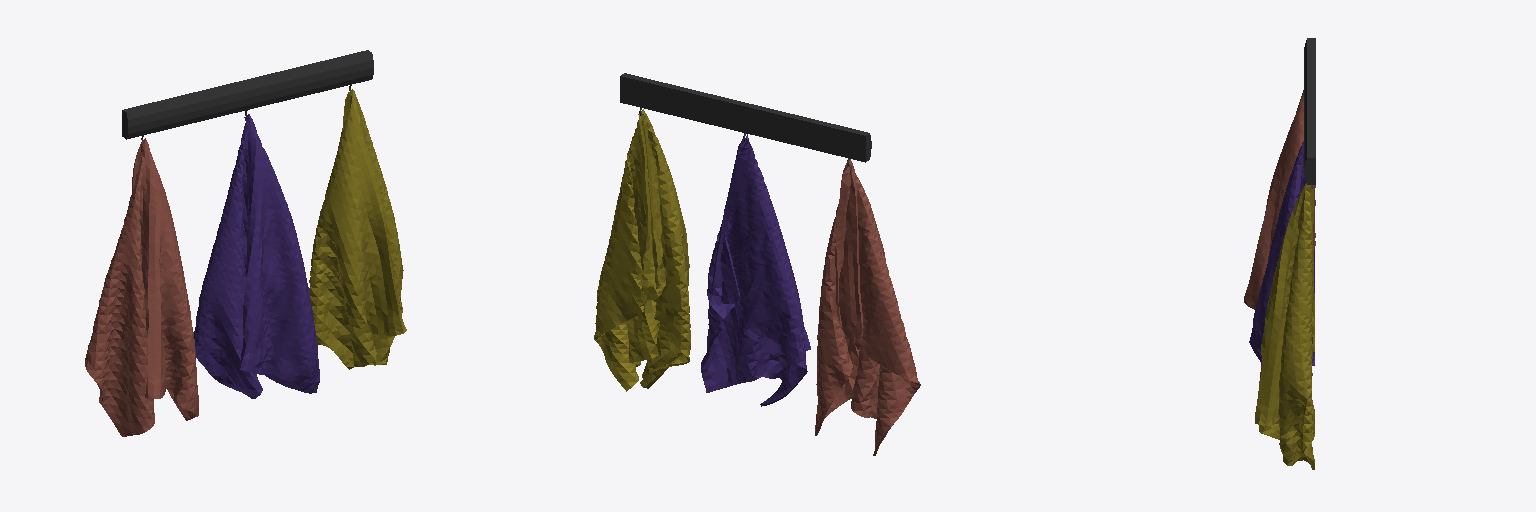
The model's file is set_1.obj.
The picture shows the model from 3 angles: view 1: azimuth 30°, elevation 25°; view 2: azimuth 150°, elevation 25°; view 3: azimuth 270°, elevation 25°; orthographic projection.
Visible parts, largest first — view 1: set_1; view 2: set_1; view 3: set_1.
Part boxes in pixels (x1,y1,x2,y2): set_1: (85, 50, 406, 436); set_1: (594, 73, 920, 455); set_1: (1244, 38, 1315, 469).
Bounding box in the file's own units: 40.99 × 39.38 × 8.01.